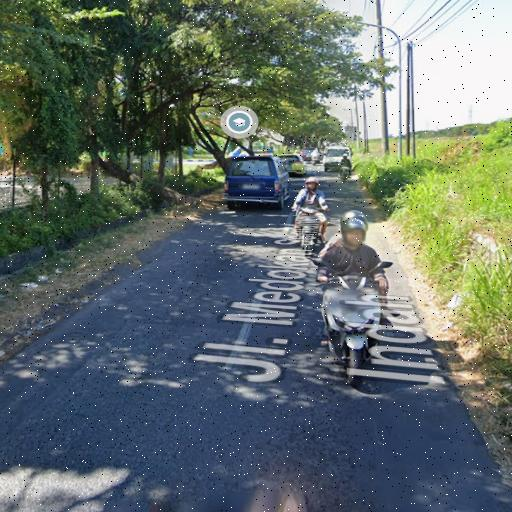Helmet: (341, 219, 367, 241), (341, 210, 367, 229), (305, 177, 319, 184)
Motor: (313, 259, 392, 385), (296, 207, 322, 252), (339, 166, 351, 183)
